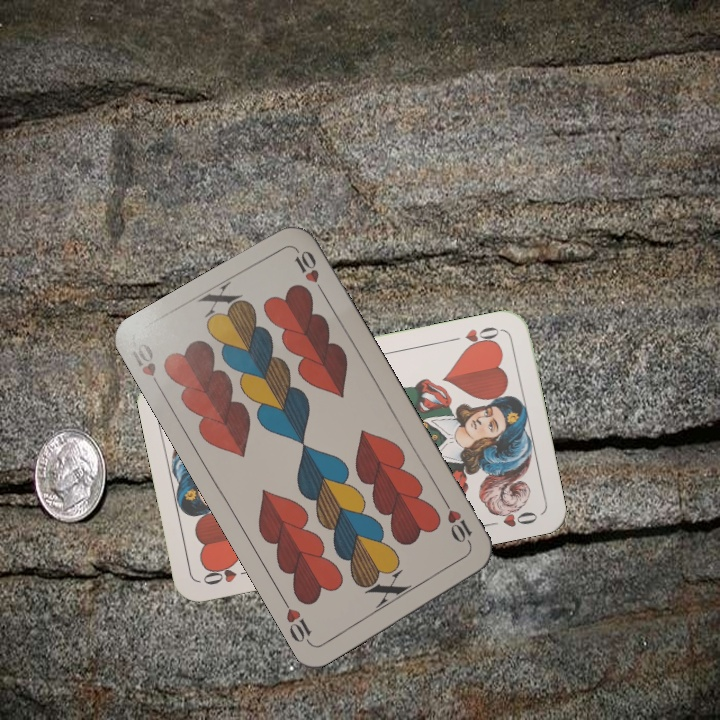H10: (127, 339, 166, 395), (440, 496, 475, 551)
HO: (445, 322, 504, 352), (198, 561, 257, 588)
